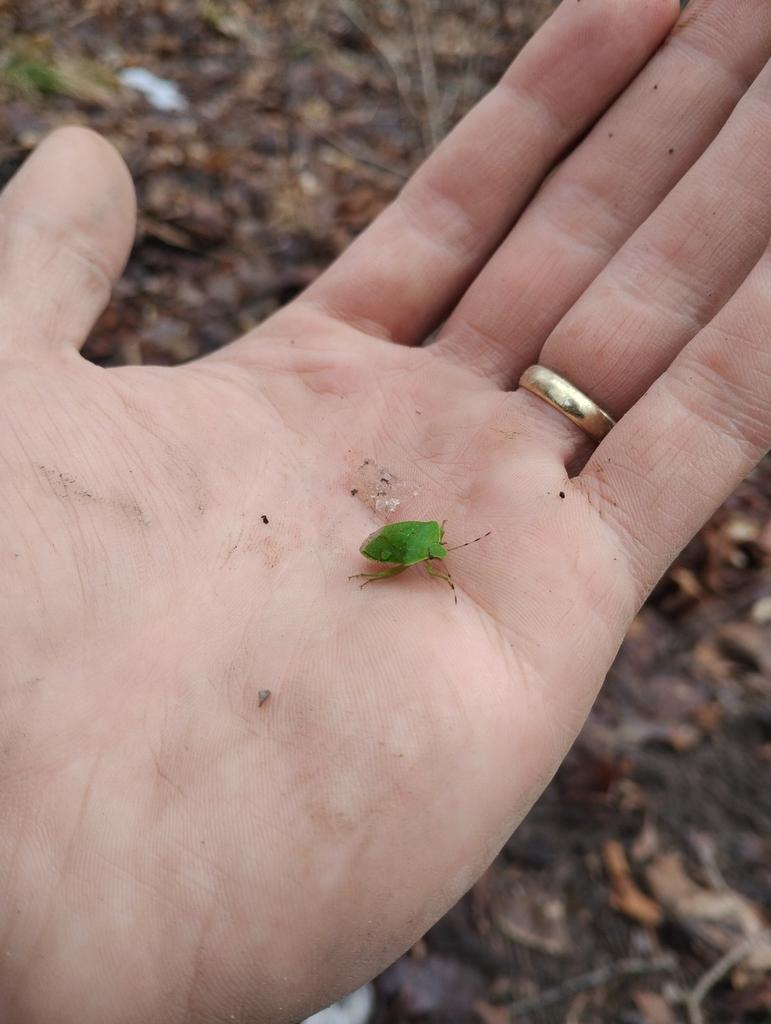stink_bugs: (334, 493, 510, 627)
